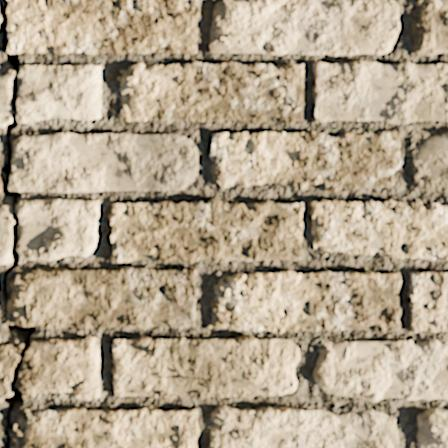brick: (110, 199, 303, 262), (208, 270, 400, 332), (113, 335, 299, 399), (8, 266, 196, 329), (210, 131, 400, 191), (118, 62, 303, 123), (9, 133, 197, 191), (209, 0, 397, 55), (7, 0, 198, 54), (313, 61, 447, 123), (314, 339, 447, 401), (311, 199, 447, 259), (210, 406, 398, 447), (12, 407, 198, 447), (408, 272, 447, 331), (412, 133, 447, 190), (412, 0, 447, 54), (417, 409, 447, 447), (388, 0, 398, 17)
broken_brick: (18, 336, 100, 400), (17, 198, 99, 261), (17, 64, 102, 124), (0, 342, 22, 402), (0, 69, 13, 127), (0, 204, 12, 265)
crack: (0, 0, 36, 447), (137, 269, 163, 309), (56, 338, 78, 377), (155, 410, 178, 447), (376, 0, 398, 30), (177, 268, 191, 311), (327, 85, 338, 120), (352, 431, 372, 447), (160, 393, 179, 396), (312, 115, 319, 122), (349, 0, 357, 5)
